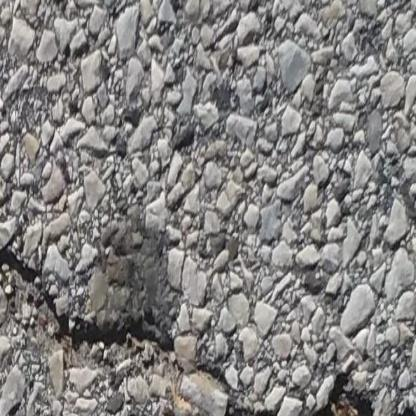Cracks: (0, 228, 286, 416), (309, 368, 416, 416)
